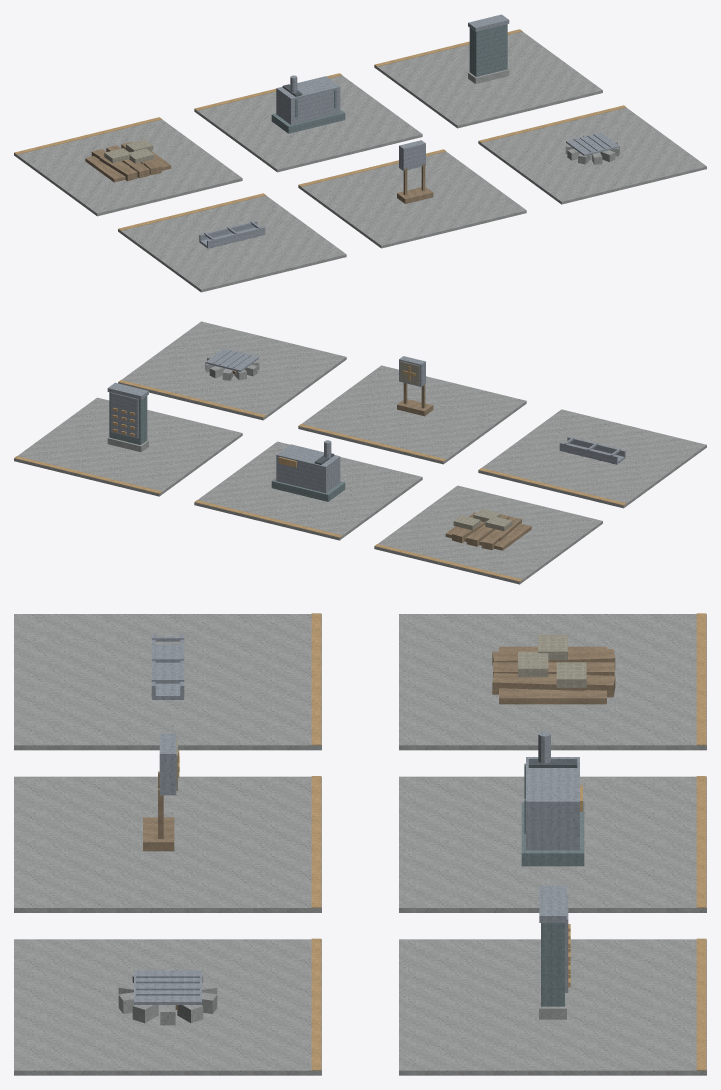
File: level_blockout_kit_wld_02_p02.glb
The picture shows the model from 3 angles, top to bottom: view 1: azimuth 30°, elevation 25°; view 2: azimuth 150°, elevation 25°; view 3: azimuth 270°, elevation 25°; orthographic projection. The views are drawn at different scales.
Parts seen in each view (by area): view 1: level_blockout_kit_wld_02_p02; view 2: level_blockout_kit_wld_02_p02; view 3: level_blockout_kit_wld_02_p02.
Boxes of the visible parts, left/top/right/bottom form: level_blockout_kit_wld_02_p02: left=14, top=14, right=706, bottom=292; level_blockout_kit_wld_02_p02: left=14, top=321, right=706, bottom=584; level_blockout_kit_wld_02_p02: left=14, top=613, right=706, bottom=1075.
Size of the model in its own units: 19.65 by 2.19 by 12.6.
Materials: 7 (7 with a texture image).
